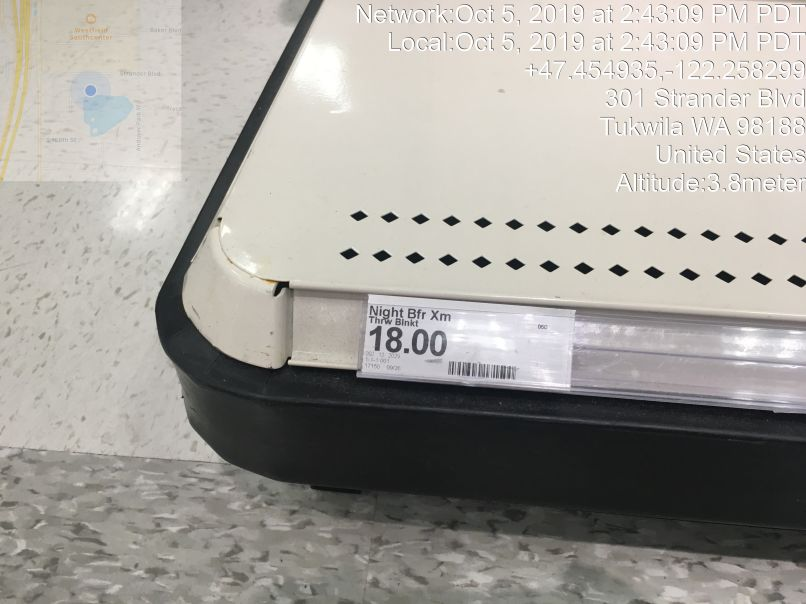Label: (349, 287, 581, 400)
Location: (596, 86, 806, 172)
Time: (351, 1, 806, 57)
Void: (329, 15, 792, 284)
